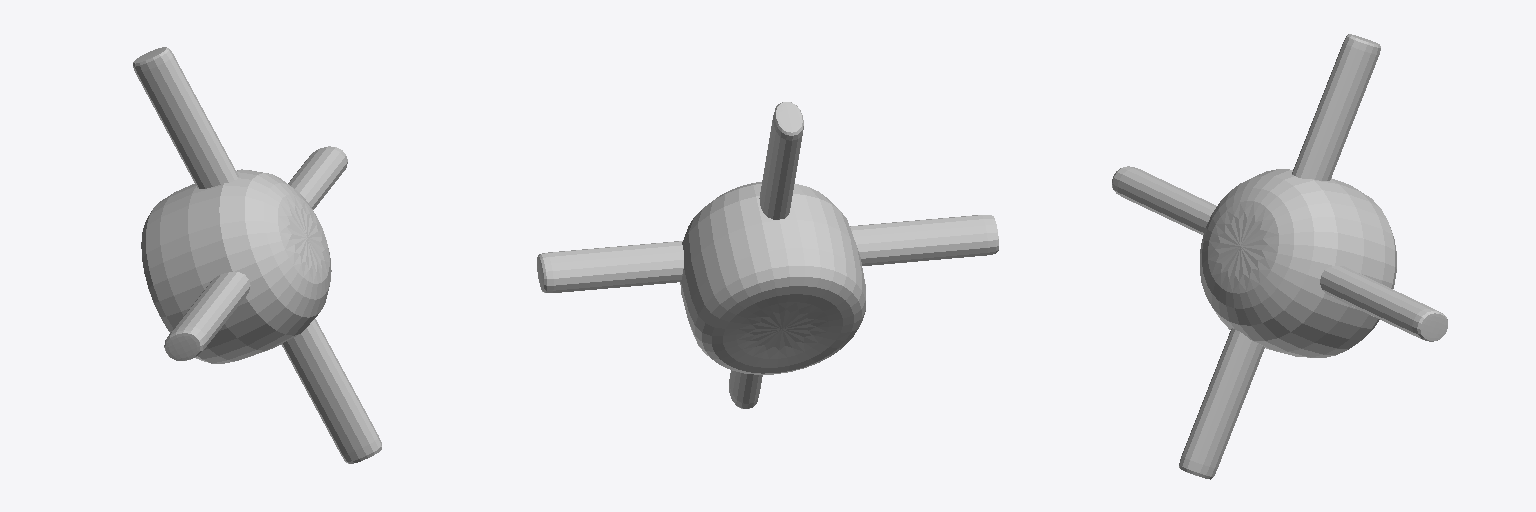
File: Hektar_light_bulb_stand.obj
The picture shows the model from 3 angles: view 1: azimuth 30°, elevation 25°; view 2: azimuth 150°, elevation 25°; view 3: azimuth 270°, elevation 25°; orthographic projection.
Parts seen in each view (by area): view 1: Circle.000_Circle.000; view 2: Circle.000_Circle.000; view 3: Circle.000_Circle.000.
Boxes of the visible parts, box(x1,y1,x2,y2) form: Circle.000_Circle.000: box(133, 47, 381, 463); Circle.000_Circle.000: box(537, 102, 998, 408); Circle.000_Circle.000: box(1112, 34, 1447, 479).
Size of the model in its own units: 0.0878 by 0.1009 by 0.0795.